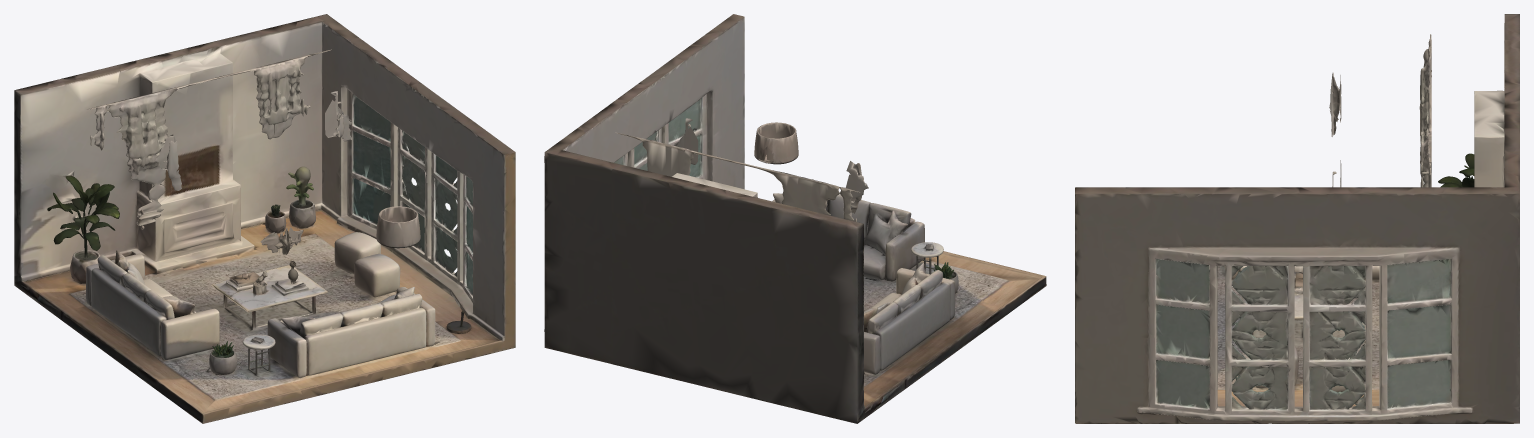
The model's file is sejour.glb.
3 renders of one model, left to right at view 1: azimuth 30°, elevation 25°; view 2: azimuth 150°, elevation 25°; view 3: azimuth 270°, elevation 25°, orthographic. The views are drawn at different scales.
Visible parts, largest first — view 1: tripo_node_1146a870-229e-4d7c-8438-957b19d96ac2; view 2: tripo_node_1146a870-229e-4d7c-8438-957b19d96ac2; view 3: tripo_node_1146a870-229e-4d7c-8438-957b19d96ac2.
Part boxes in pixels (x1,y1,x2,y2): tripo_node_1146a870-229e-4d7c-8438-957b19d96ac2: (14,14,515,423); tripo_node_1146a870-229e-4d7c-8438-957b19d96ac2: (544,14,1046,423); tripo_node_1146a870-229e-4d7c-8438-957b19d96ac2: (1075,14,1519,423).
Bounding box in the file's own units: 0.9802 × 0.5589 × 0.9769.
1 material, 1 textured.
